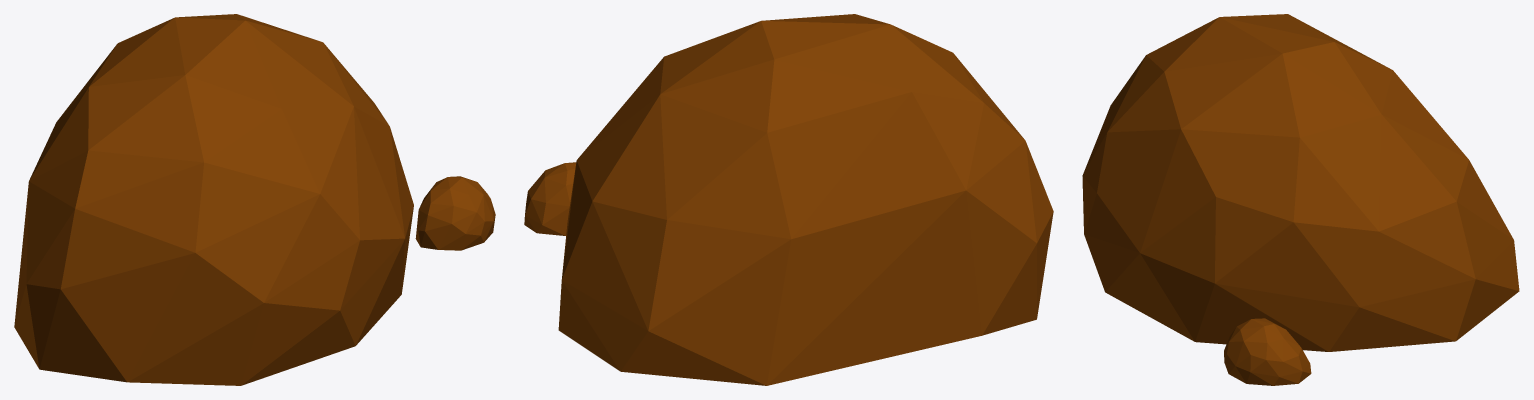
File: rock4.obj
3 views of the same model, side by side, from view 1: azimuth 30°, elevation 25°; view 2: azimuth 150°, elevation 25°; view 3: azimuth 270°, elevation 25° (orthographic). The views are drawn at different scales.
Visible parts, largest first — view 1: Icosphere.007; view 2: Icosphere.007; view 3: Icosphere.007.
Part boxes in pixels (x1=…): Icosphere.007: x1=14, y1=14, x2=495, y2=385; Icosphere.007: x1=524, y1=14, x2=1053, y2=385; Icosphere.007: x1=1082, y1=14, x2=1519, y2=385.
Size of the model in its own units: 1.7 by 0.8917 by 1.47.
1 material, 1 textured.
